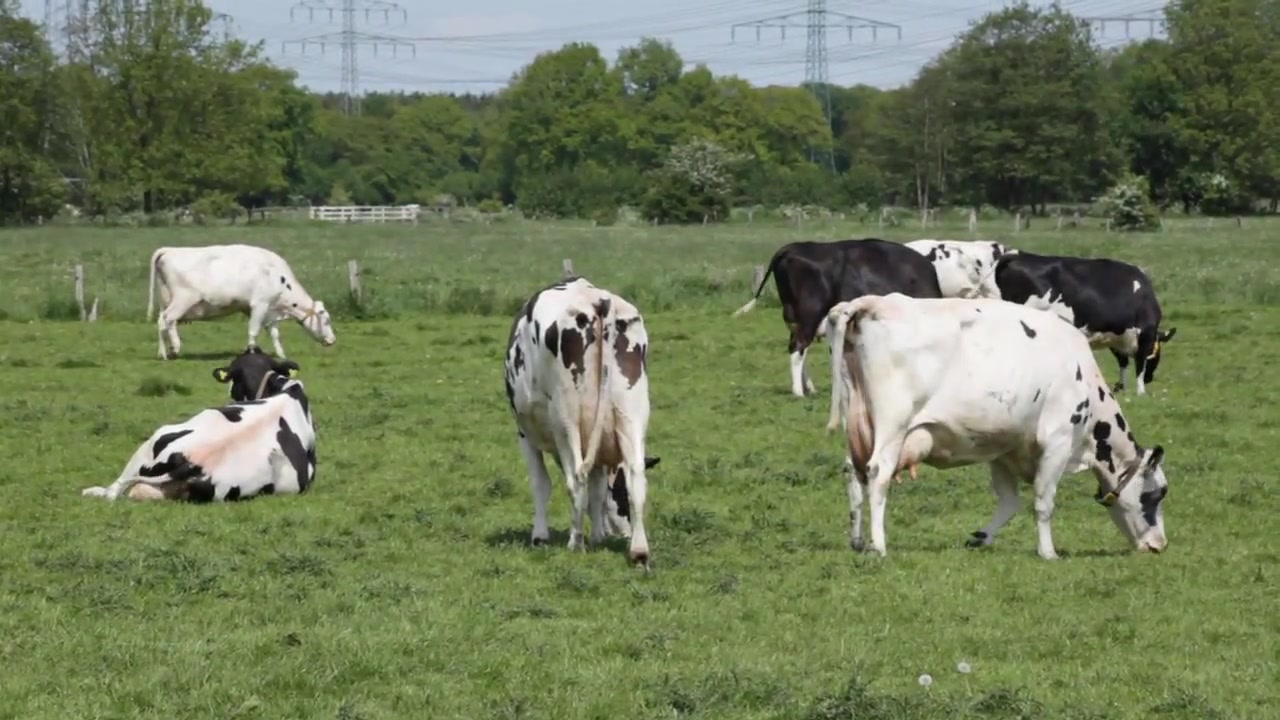cow: (500, 280, 659, 570)
